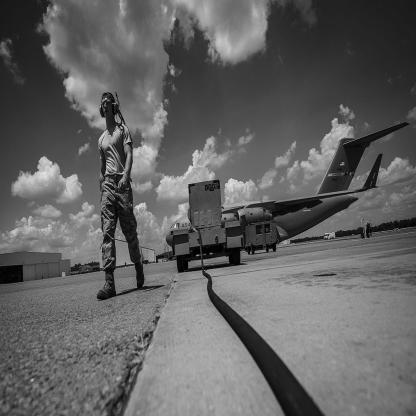C17: (166, 123, 411, 252)
